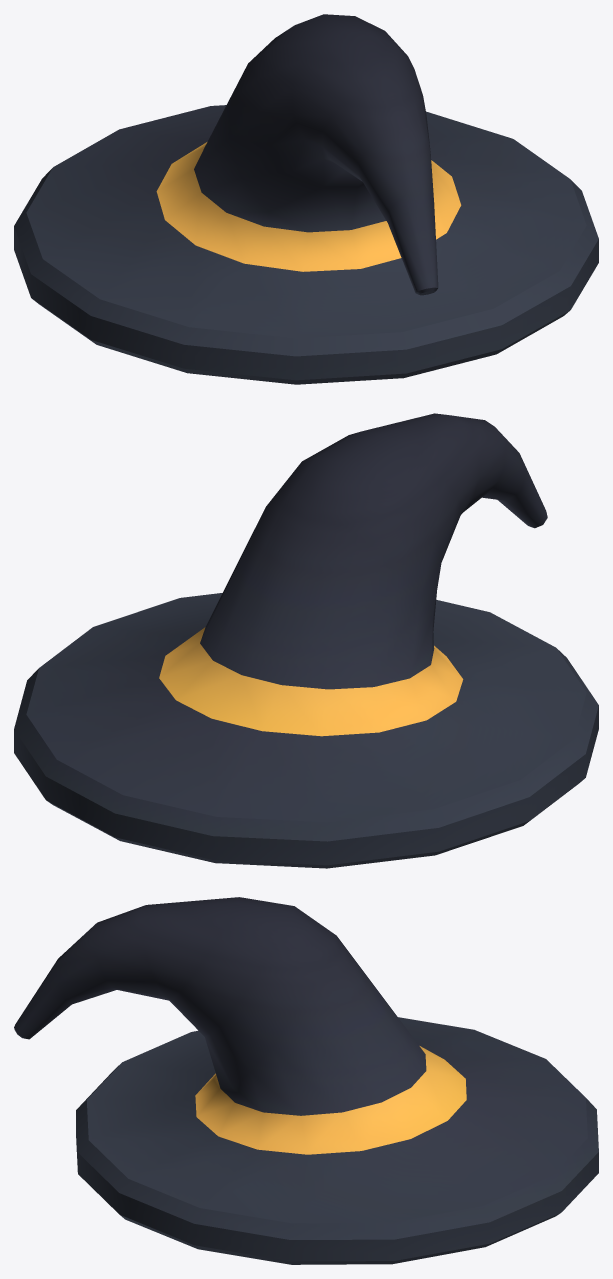
File: Hat.glb
3 views of the same model, one above another, from view 1: azimuth 30°, elevation 25°; view 2: azimuth 150°, elevation 25°; view 3: azimuth 270°, elevation 25° (orthographic). The views are drawn at different scales.
Parts seen in each view (by area): view 1: Hat; view 2: Hat; view 3: Hat.
Boxes of the visible parts, x1,y1,x2,y2 form: Hat: [14, 14, 598, 384]; Hat: [14, 413, 598, 868]; Hat: [14, 897, 598, 1264].
Size of the model in its own units: 0.3338 by 0.1767 by 0.3782.
Materials: 1 (1 with a texture image).
